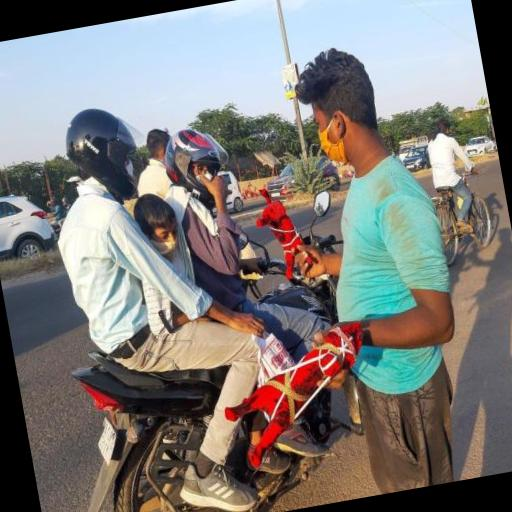helmet: (155, 104, 250, 218)
triple riding: (13, 47, 377, 512)
